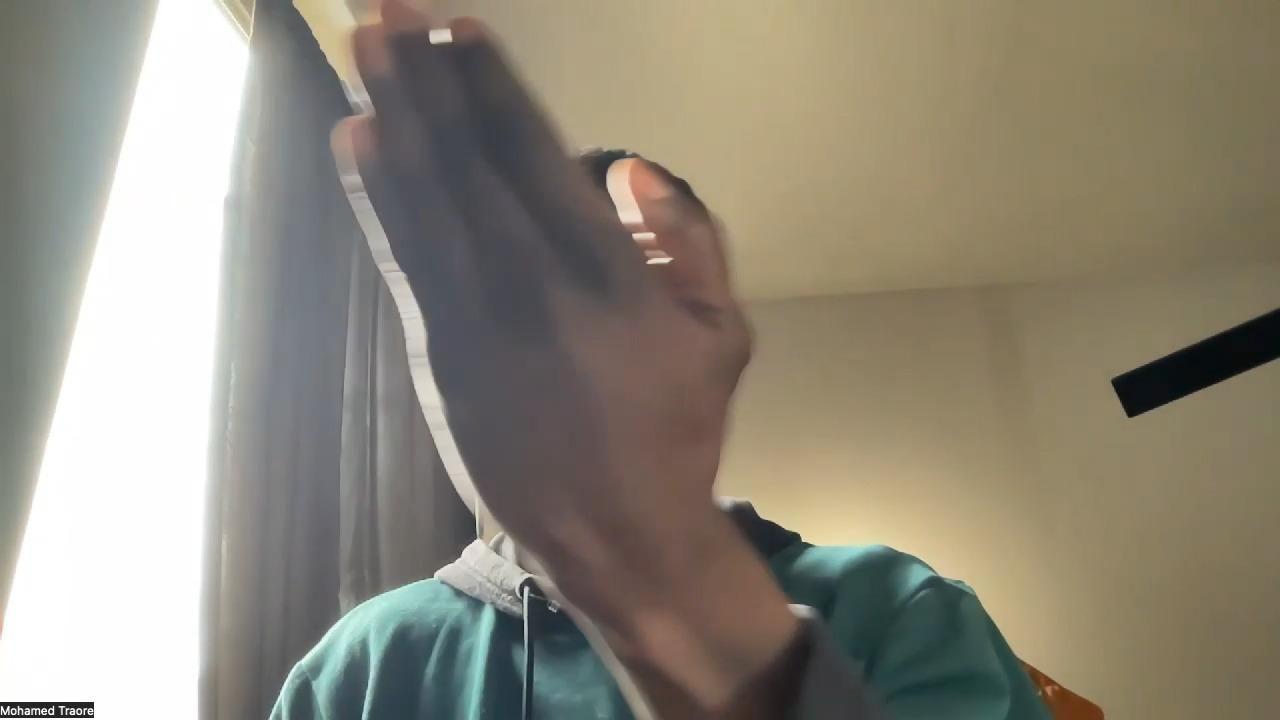Paper: (323, 0, 753, 594)
